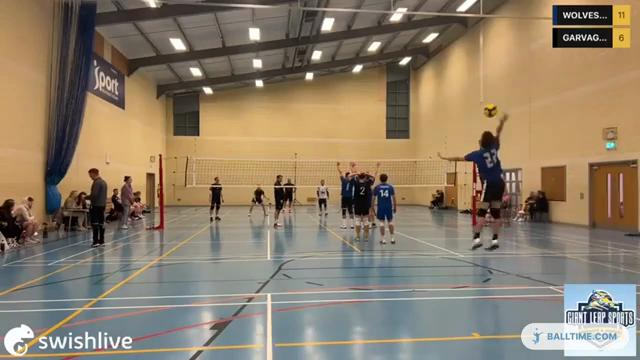battuta: (436, 108, 508, 251)
